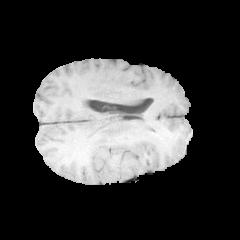glioma: (85, 133, 133, 181)
